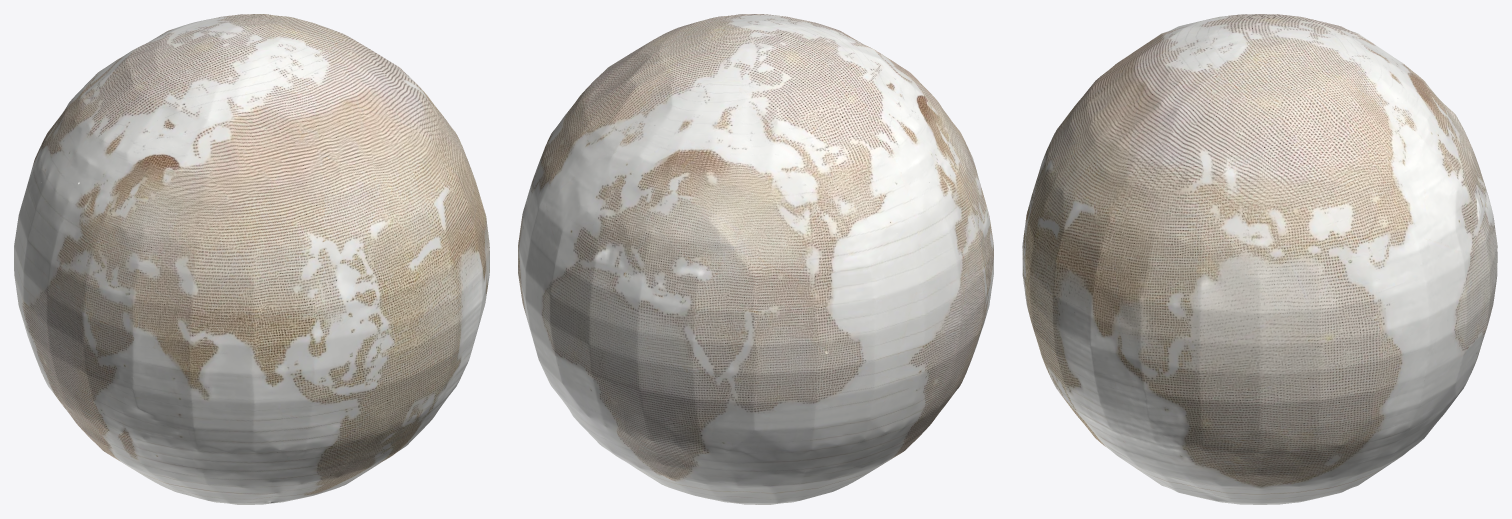
The model's file is golden-enhance-globe-draco.glb.
3 renders of one model, left to right at view 1: azimuth 30°, elevation 25°; view 2: azimuth 150°, elevation 25°; view 3: azimuth 270°, elevation 25°, orthographic.
Size of the model in its own units: 1.83 by 1.9 by 1.83.
1 material, 1 textured.
